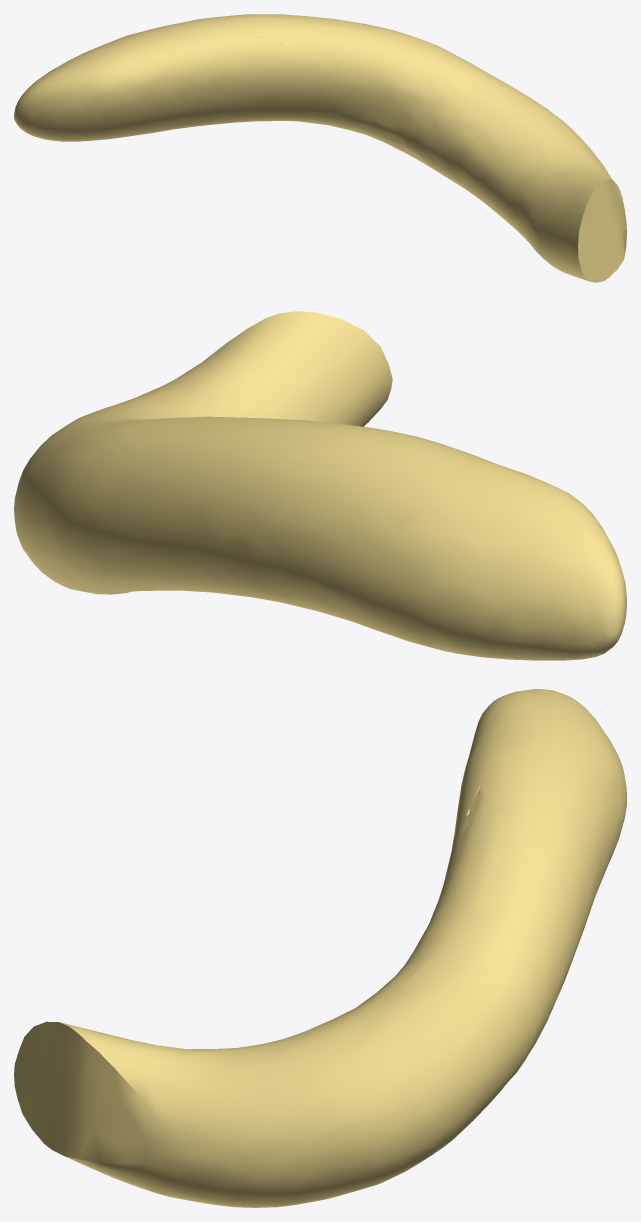
File: fma84575-l_mm2899.glb
The picture shows the model from 3 angles, top to bottom: view 1: azimuth 30°, elevation 25°; view 2: azimuth 150°, elevation 25°; view 3: azimuth 270°, elevation 25°; orthographic projection. The views are drawn at different scales.
Parts seen in each view (by area): view 1: FMA84575-L_MM2899; view 2: FMA84575-L_MM2899; view 3: FMA84575-L_MM2899.
Boxes of the visible parts, x1,y1,x2,y2 form: FMA84575-L_MM2899: (14, 14, 626, 282); FMA84575-L_MM2899: (14, 311, 626, 660); FMA84575-L_MM2899: (14, 689, 626, 1207).
Bounding box in the file's own units: 0.0179 × 0.00748 × 0.0148.
